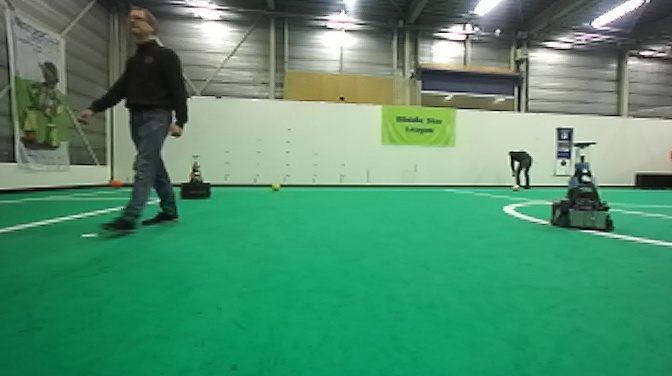ball: (267, 178, 281, 194), (106, 177, 122, 190), (510, 182, 522, 194)
human: (80, 4, 190, 239), (507, 146, 534, 192)
robot: (549, 139, 616, 232), (177, 153, 215, 201)
